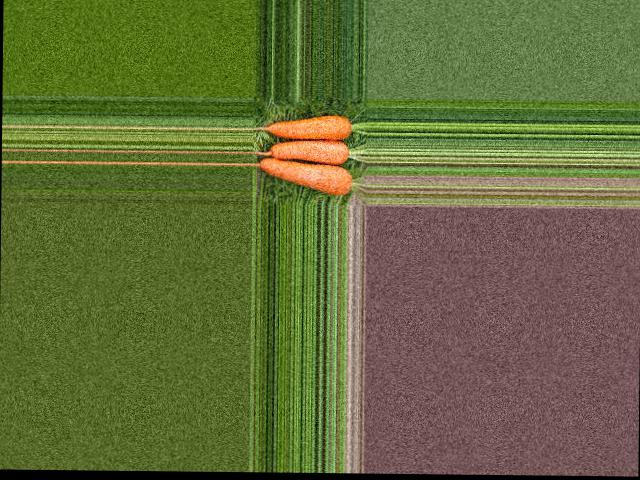carrot: (258, 157, 353, 196)
